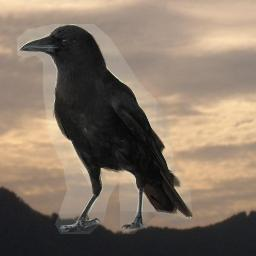Crow: (17, 24, 193, 234)
